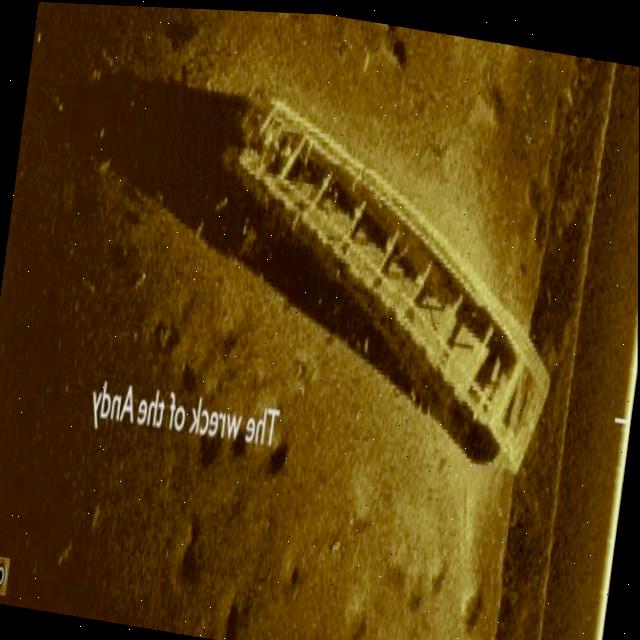shipwreck: (200, 86, 582, 474)
